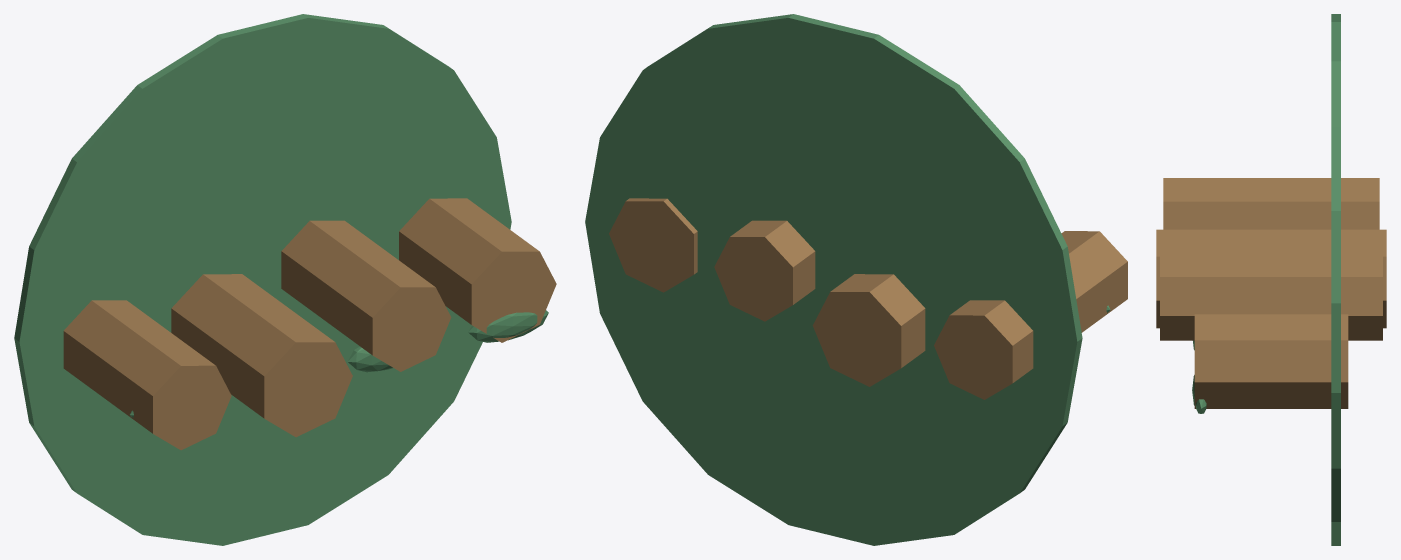
The model's file is 02_local_prop_cluster.glb.
3 views of the same model, side by side, from view 1: azimuth 30°, elevation 25°; view 2: azimuth 150°, elevation 25°; view 3: azimuth 270°, elevation 25° (orthographic). The views are drawn at different scales.
Visible parts, largest first — view 1: scatter_base, root_stump_1, root_stump_2, root_stump_0, root_stump_3, moss_3, moss_2; view 2: scatter_base, root_stump_0, root_stump_1, root_stump_2, root_stump_3; view 3: root_stump_2, root_stump_3, root_stump_0, root_stump_1, scatter_base.
Part boxes in pixels (left/top/right/bottom): scatter_base: left=14, top=14, right=511, bottom=545; root_stump_1: left=171, top=274, right=352, bottom=437; root_stump_2: left=281, top=220, right=451, bottom=371; root_stump_0: left=63, top=300, right=231, bottom=450; root_stump_3: left=399, top=198, right=556, bottom=342; moss_3: left=468, top=310, right=548, bottom=342; moss_2: left=348, top=346, right=392, bottom=372; scatter_base: left=585, top=14, right=1082, bottom=545; root_stump_0: left=934, top=231, right=1127, bottom=399; root_stump_1: left=812, top=274, right=925, bottom=386; root_stump_2: left=714, top=220, right=815, bottom=321; root_stump_3: left=609, top=198, right=697, bottom=292; root_stump_2: left=1160, top=253, right=1382, bottom=340; root_stump_3: left=1194, top=314, right=1348, bottom=408; root_stump_0: left=1163, top=178, right=1379, bottom=229; root_stump_1: left=1156, top=229, right=1386, bottom=328; scatter_base: left=1331, top=14, right=1340, bottom=545.
Bounding box in the file's own units: 1.9 × 1.87 × 0.8187.
